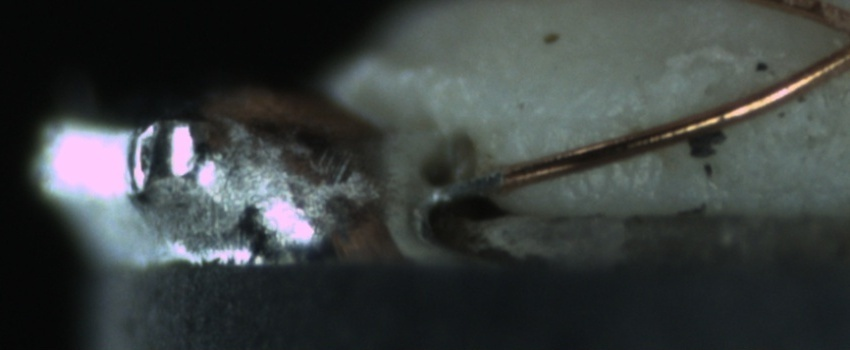DL: (506, 97, 653, 150)
TS: (431, 169, 505, 201)
